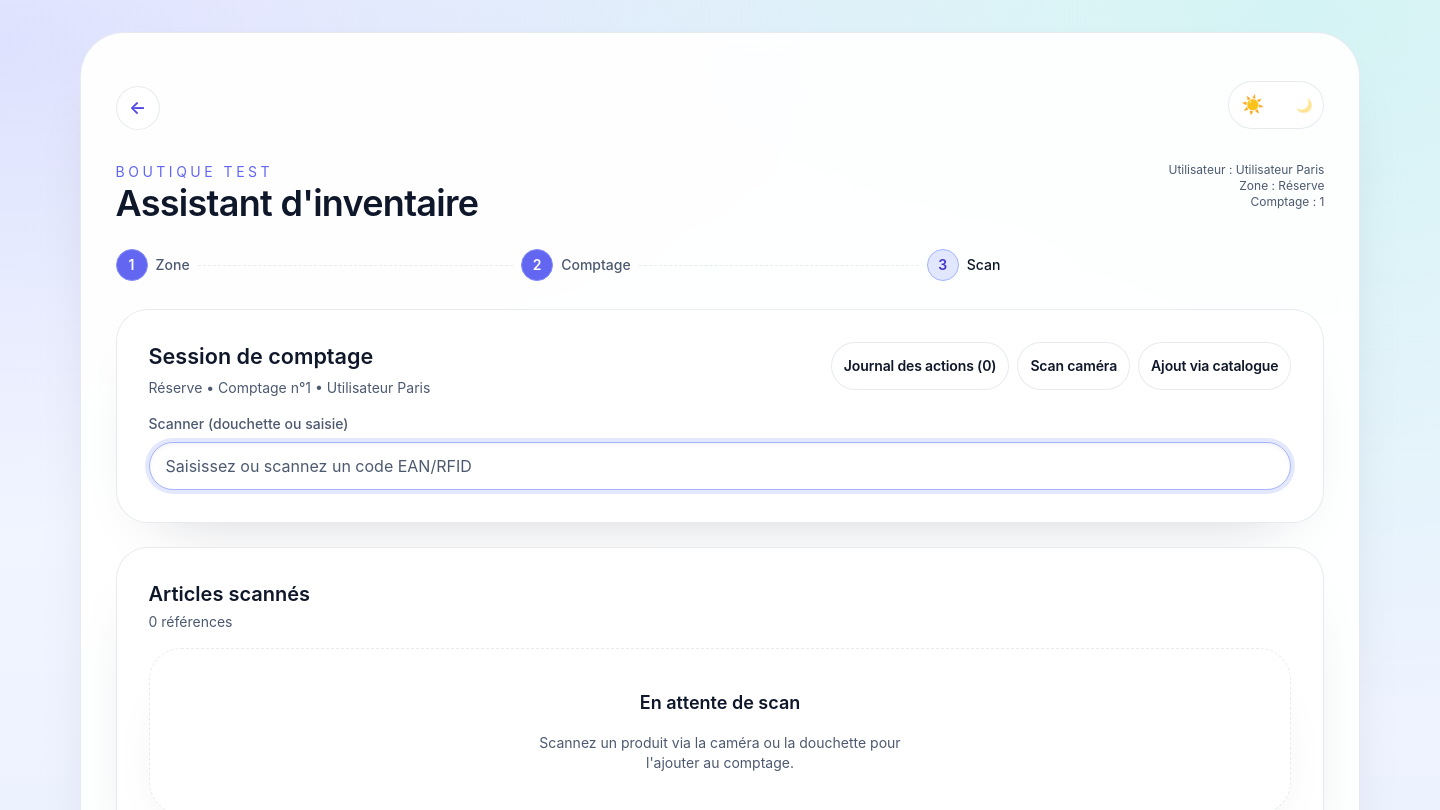
Workflow d'inventaire › affiche un feedback visuel clair lorsqu’un code RFID alphanumérique est introuvable
Type "rfid001" into the field labelled "Scanner (douchette ou saisie)". click: (720, 466)
box: [148,442,1291,490]
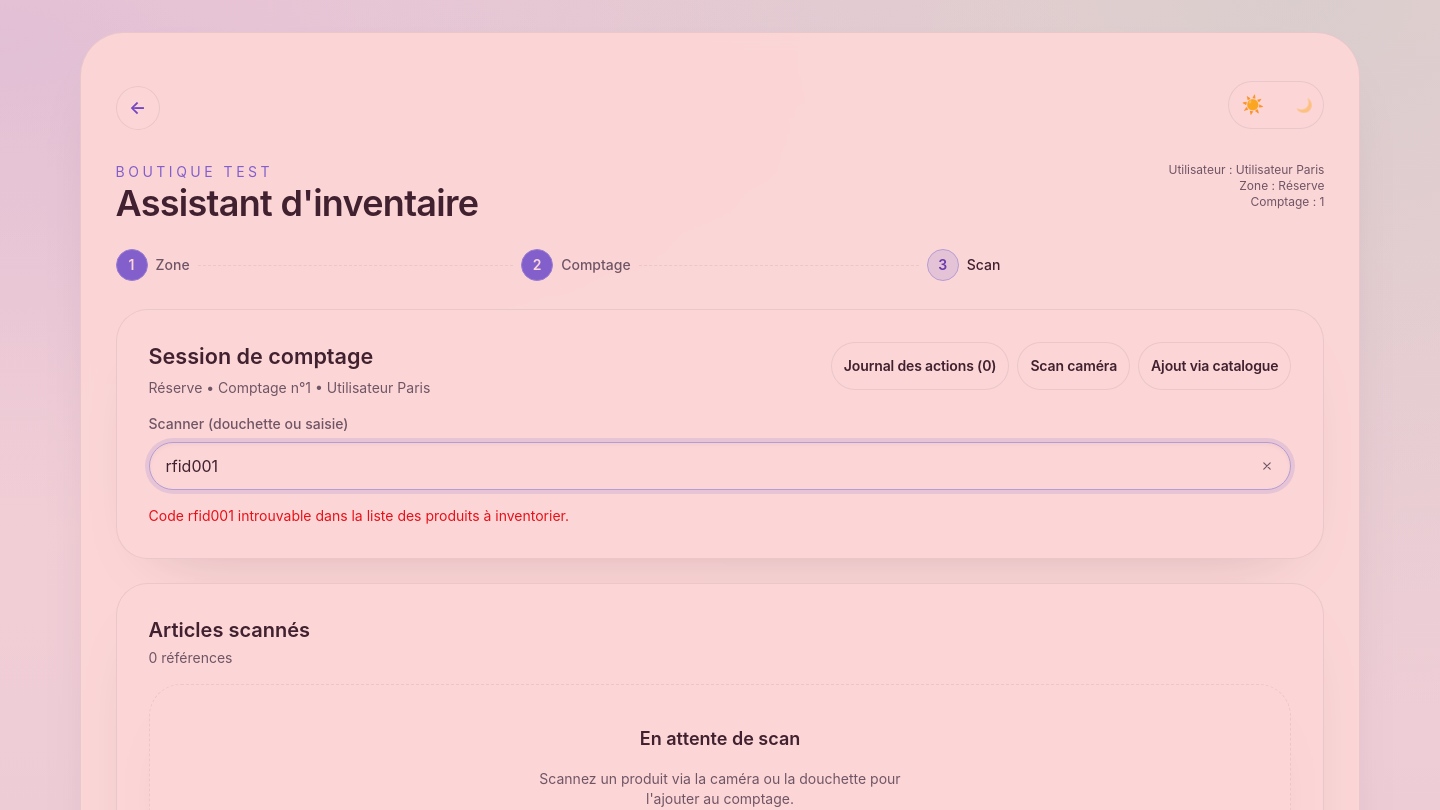
Expected: the text "Code rfid001 introuvable dans la liste des produits à inventorier." is shown, [148,507,569,524]
